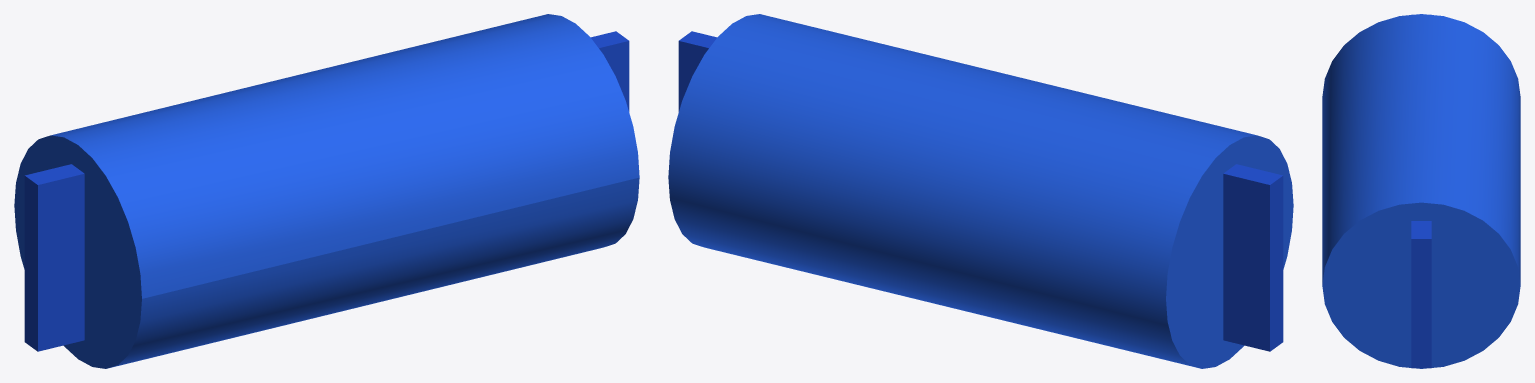
Rendered from biscuits-pack.glb.
3 views of the same model, side by side, from view 1: azimuth 30°, elevation 25°; view 2: azimuth 150°, elevation 25°; view 3: azimuth 270°, elevation 25° (orthographic). The views are drawn at different scales.
Parts seen in each view (by area): view 1: Biscuit_Roll, Crimp_L, Crimp_R; view 2: Biscuit_Roll, Crimp_L, Crimp_R; view 3: Biscuit_Roll, Crimp_R.
Part boxes in pixels (x1,y1,x2,y2): Biscuit_Roll: [14, 14, 639, 368]; Crimp_L: [24, 164, 84, 351]; Crimp_R: [591, 31, 629, 111]; Biscuit_Roll: [668, 14, 1293, 368]; Crimp_L: [1223, 164, 1283, 351]; Crimp_R: [678, 31, 716, 111]; Biscuit_Roll: [1322, 14, 1520, 368]; Crimp_R: [1411, 221, 1431, 368].
Size of the model in its own units: 0.208 by 0.072 by 0.0778.
